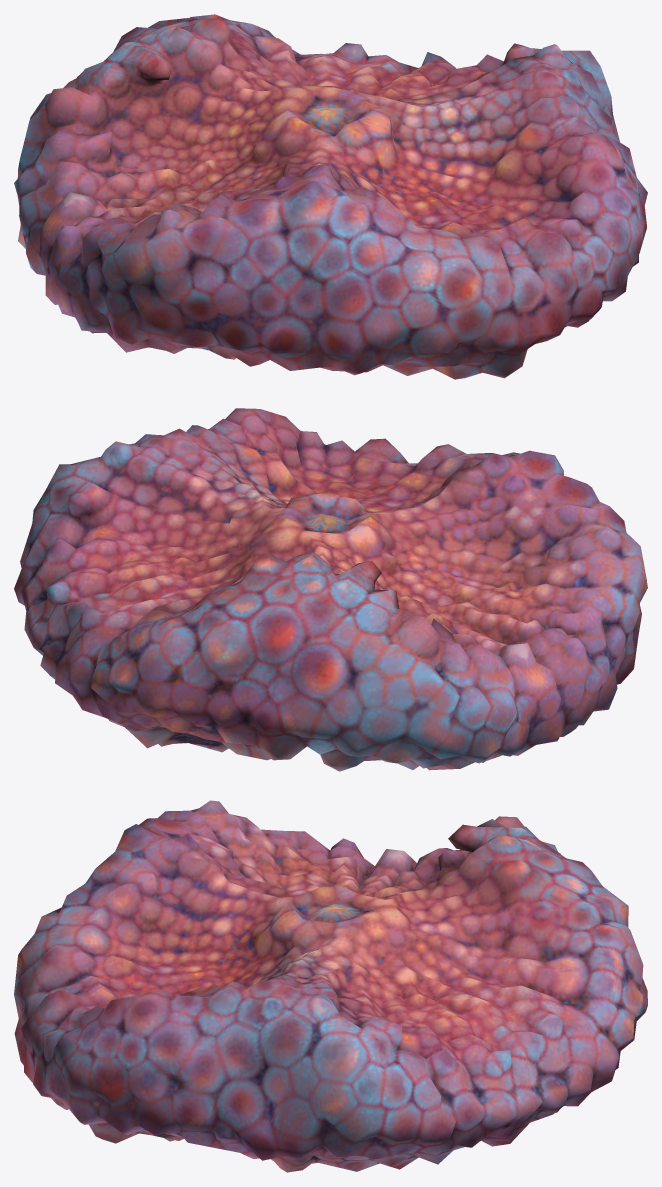
The model's file is Coral V5.fbx.
3 renders of one model, top to bottom at view 1: azimuth 30°, elevation 25°; view 2: azimuth 150°, elevation 25°; view 3: azimuth 270°, elevation 25°, orthographic.
Parts seen in each view (by area): view 1: Coral V5; view 2: Coral V5; view 3: Coral V5.
Boxes of the visible parts, x1,y1,x2,y2 form: Coral V5: (14, 14, 647, 379); Coral V5: (14, 408, 647, 771); Coral V5: (14, 800, 647, 1172).
Size of the model in its own units: 56.38 by 24.32 by 55.71.
